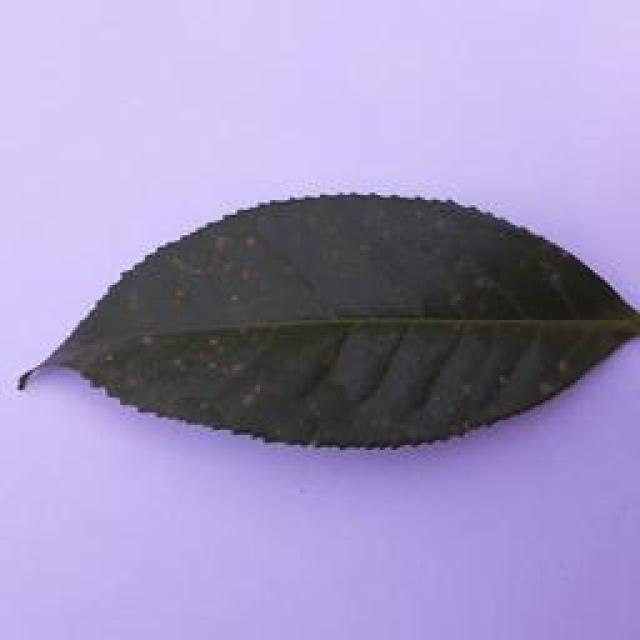Algal Leaf Spot: (2, 181, 640, 476)
